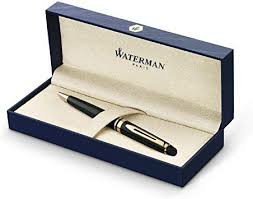pen: (53, 91, 176, 154)
